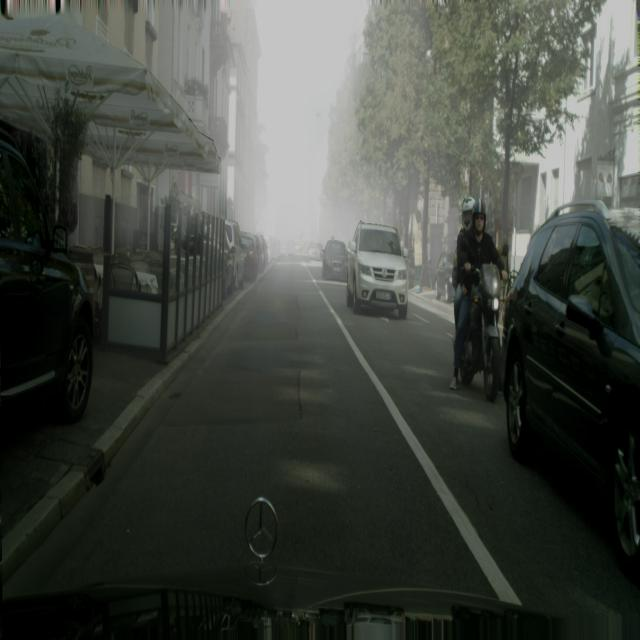motorcycle: (458, 187, 508, 402)
person: (501, 201, 640, 574), (0, 141, 96, 425), (346, 223, 409, 319), (224, 219, 246, 291), (435, 251, 457, 302), (321, 239, 348, 280), (241, 232, 259, 281), (253, 233, 268, 271), (308, 239, 322, 259)
